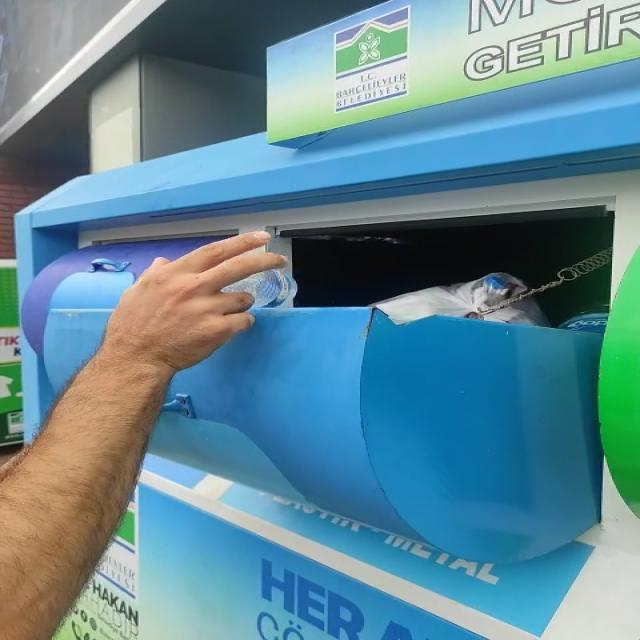Plastic: (221, 269, 297, 308)
